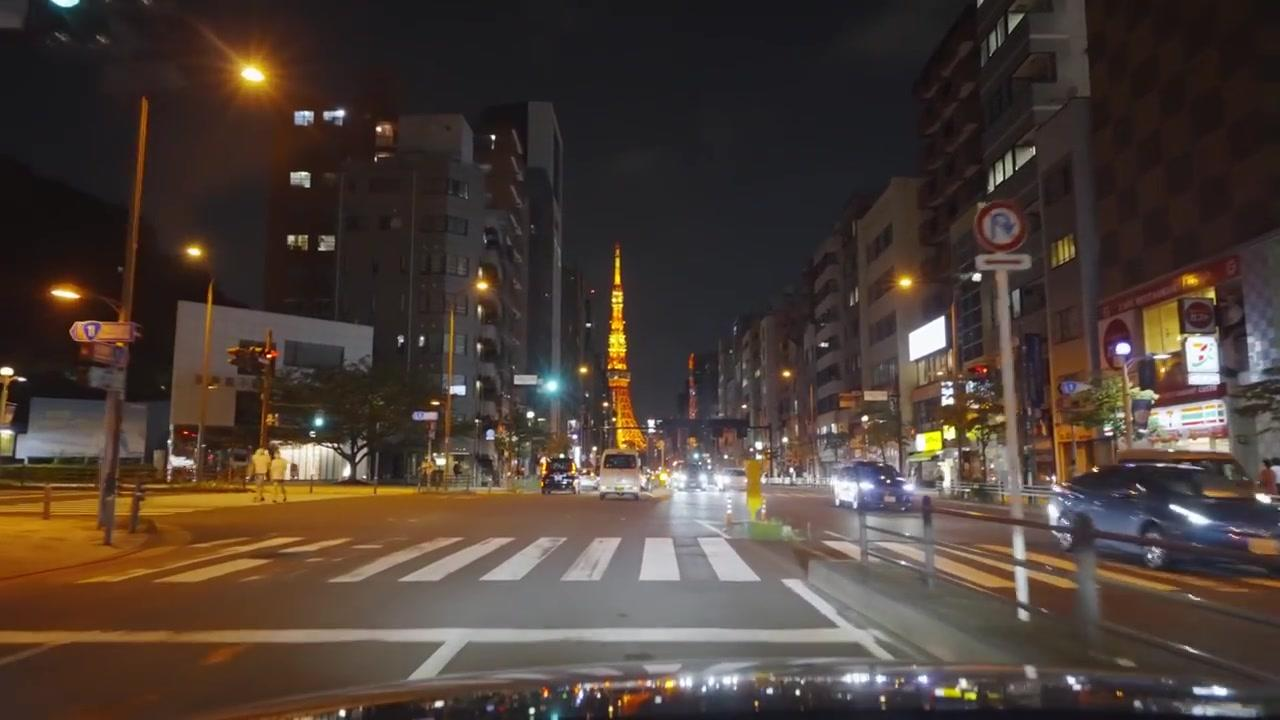bus: (598, 448, 644, 501)
car: (1047, 459, 1280, 574), (830, 462, 916, 513), (598, 447, 644, 501), (543, 472, 577, 493), (576, 474, 600, 491)
person: (248, 445, 272, 503), (269, 446, 290, 503), (1256, 458, 1279, 495)
traffic light: (227, 344, 260, 373), (541, 372, 559, 396)
